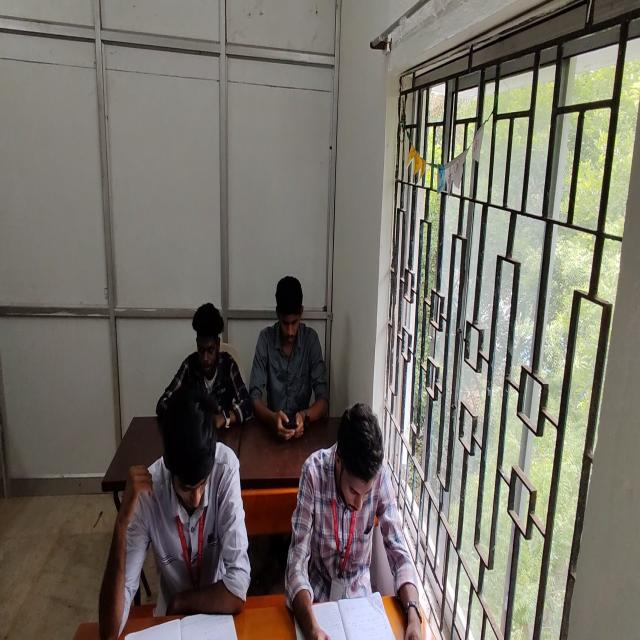reading: (100, 385, 250, 637), (282, 404, 404, 640)
using_mobile: (248, 275, 328, 437), (156, 301, 252, 432)
